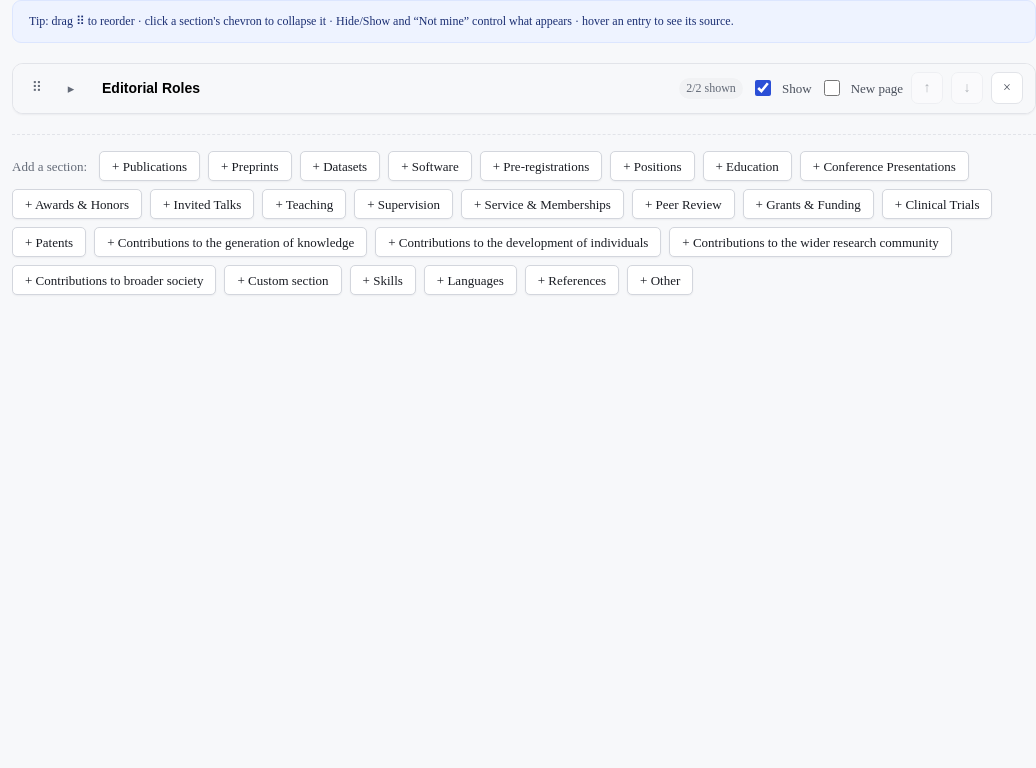
Test: Editorial Roles — Open Editors Plus date note › states the collection month and the yearly update above OEP roles
The width and height of the screenshot is (1036, 768).
Step 1. Click the button with class "section-toggle" → click(71, 88), box [57,74,85,102]
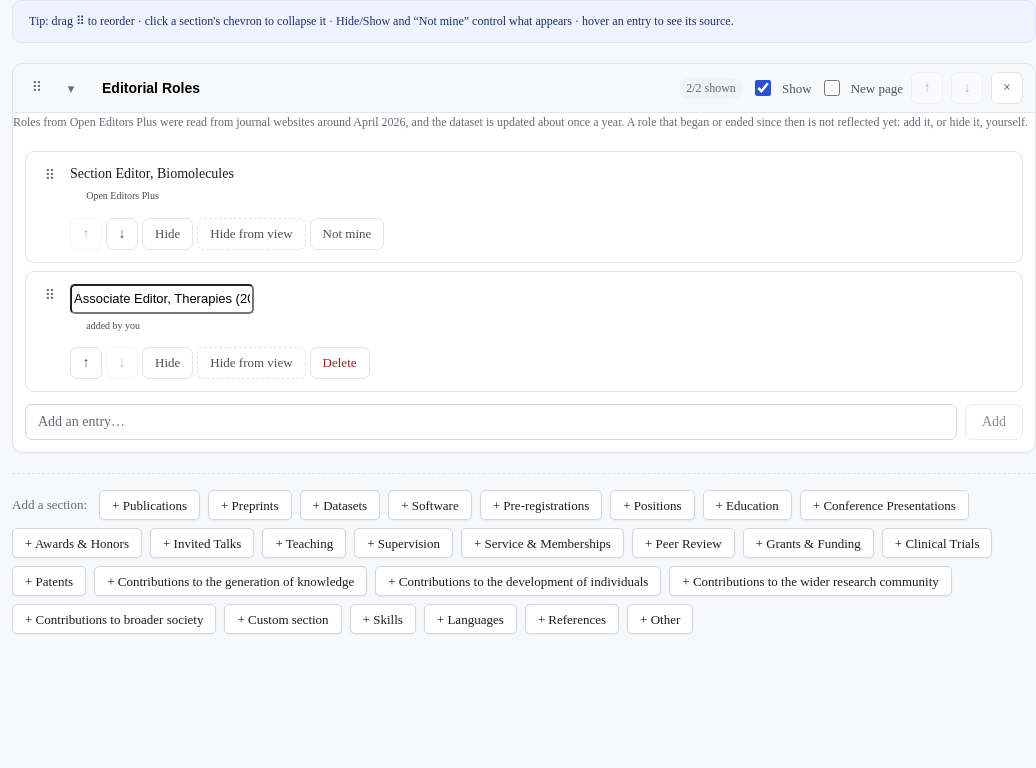
Now the text with class "source-snapshot-note" shows "Open Editors Plus", box [13,115,1028,129]
Now the text with class "source-snapshot-note" shows "about once a year", box [13,115,1028,129]
